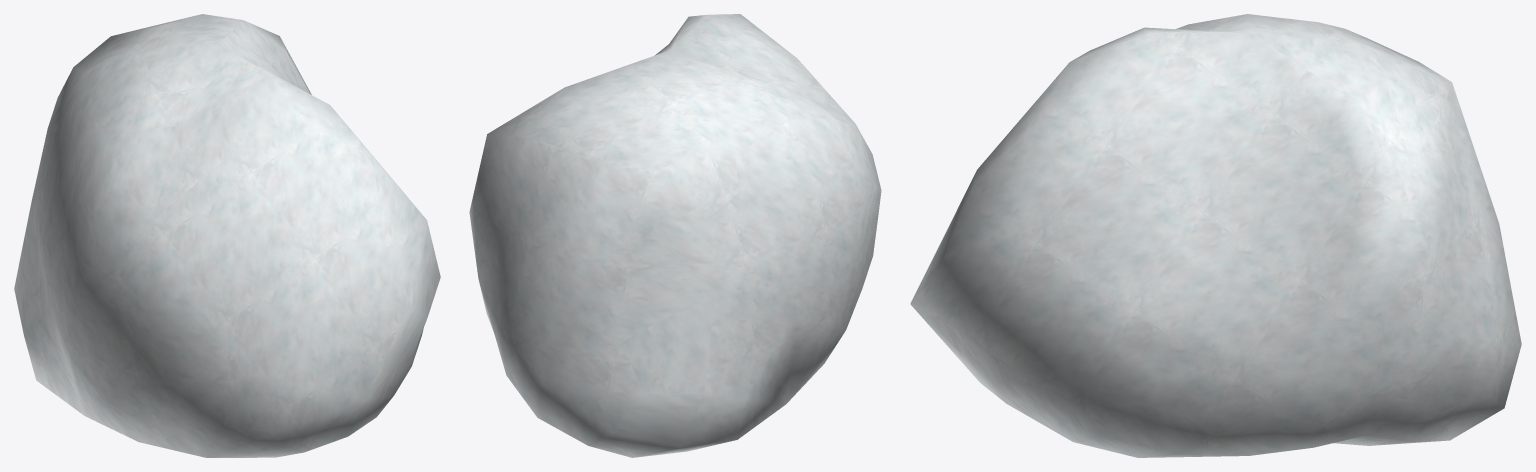
Rendered from rock4.fbx.
The picture shows the model from 3 angles, left to right: view 1: azimuth 30°, elevation 25°; view 2: azimuth 150°, elevation 25°; view 3: azimuth 270°, elevation 25°; orthographic projection. The views are drawn at different scales.
Visible parts, largest first — view 1: Cube; view 2: Cube; view 3: Cube.
Part boxes in pixels (<box>): Cube: <box>14,14,440,457</box>; Cube: <box>469,14,881,457</box>; Cube: <box>910,14,1521,457</box>.
Size of the model in its own units: 2.48 by 2.61 by 3.52.
